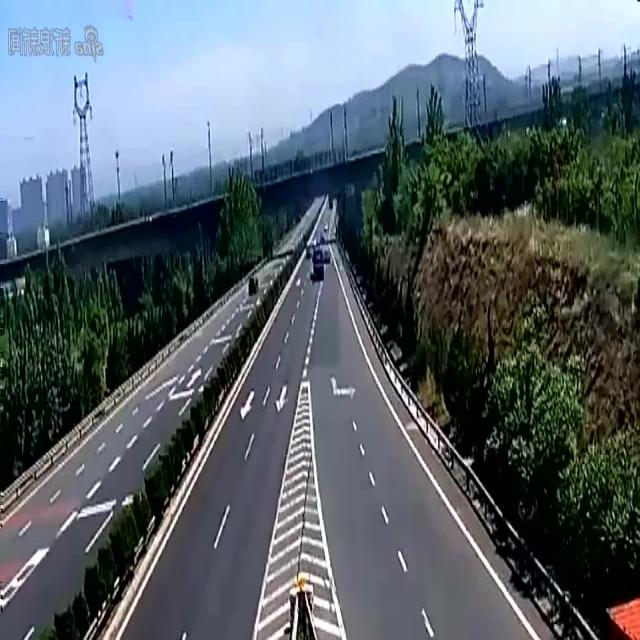point: (259, 136, 362, 304)
